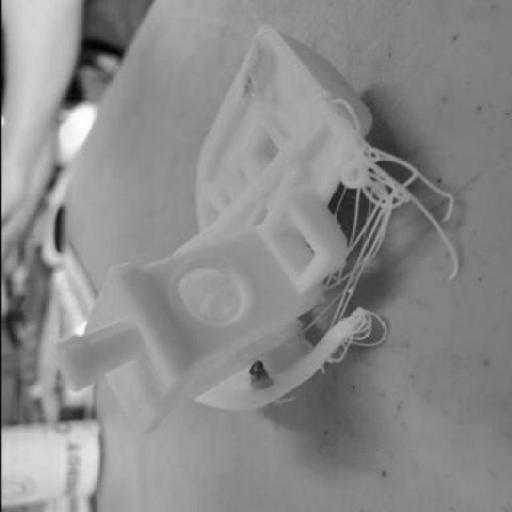spaghetti_and_stringing: (273, 136, 463, 378)
